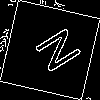N: (25, 25, 83, 80)
